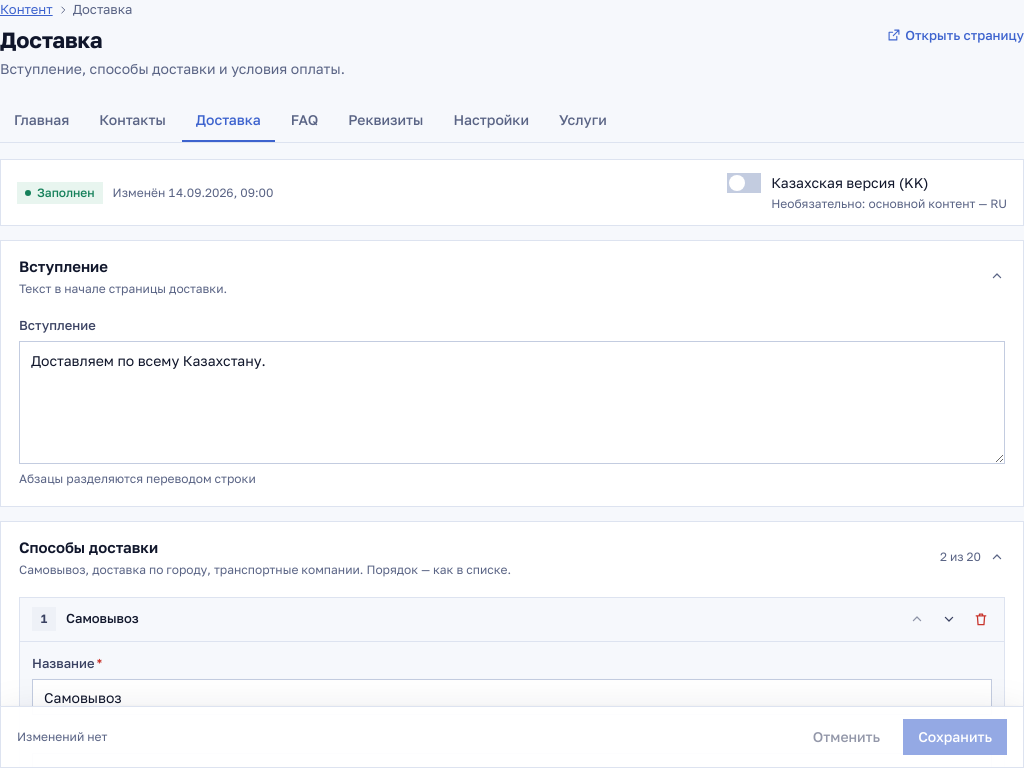
it: редактирование и сохранение › «Отменить» спрашивает подтверждение и возвращает сохранённые значения
The width and height of the screenshot is (1024, 768).
Expected: the button "Сохранить" is shown, [903,719,1007,755]
Replace the text in the text box labelled "Вступление" with "Новый текст": (512, 403) [19,341,1005,464]
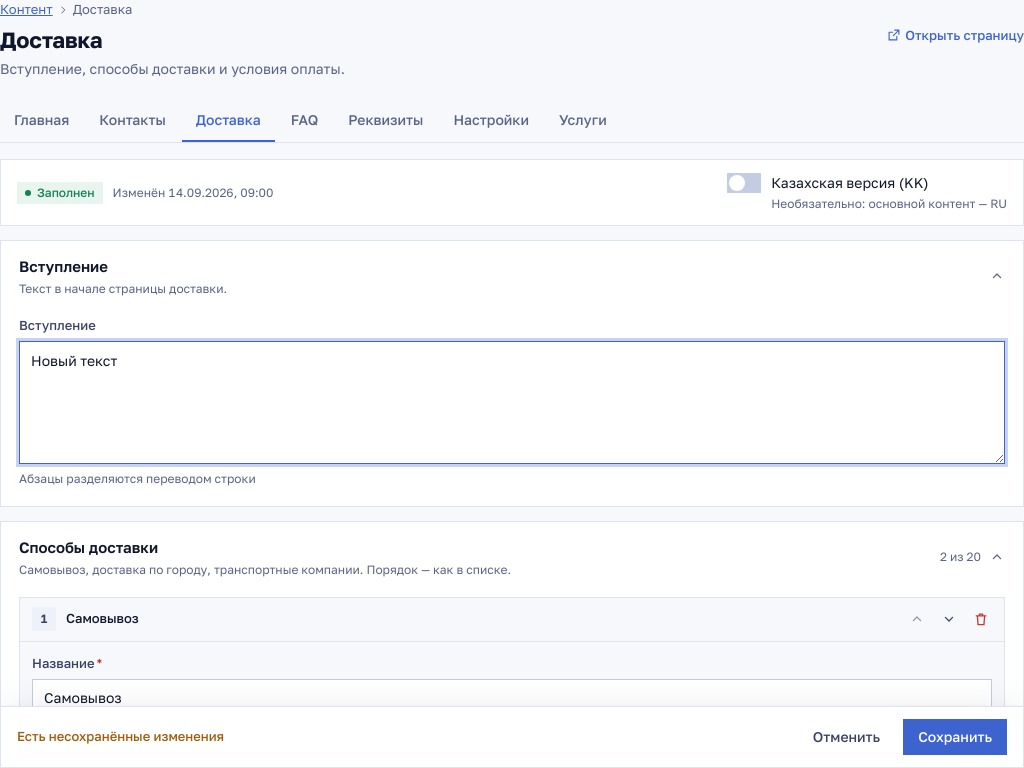
Click the button "Отменить": (846, 737) [798,719,895,755]
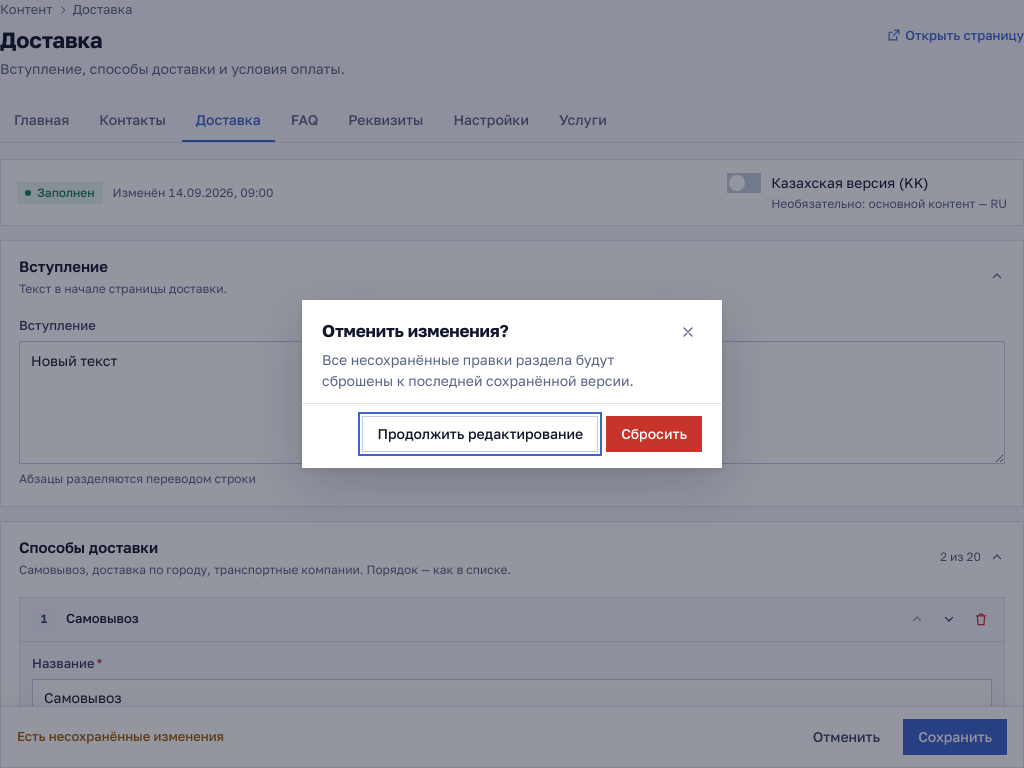
Click the button "Продолжить редактирование": (480, 434) [362,416,598,452]
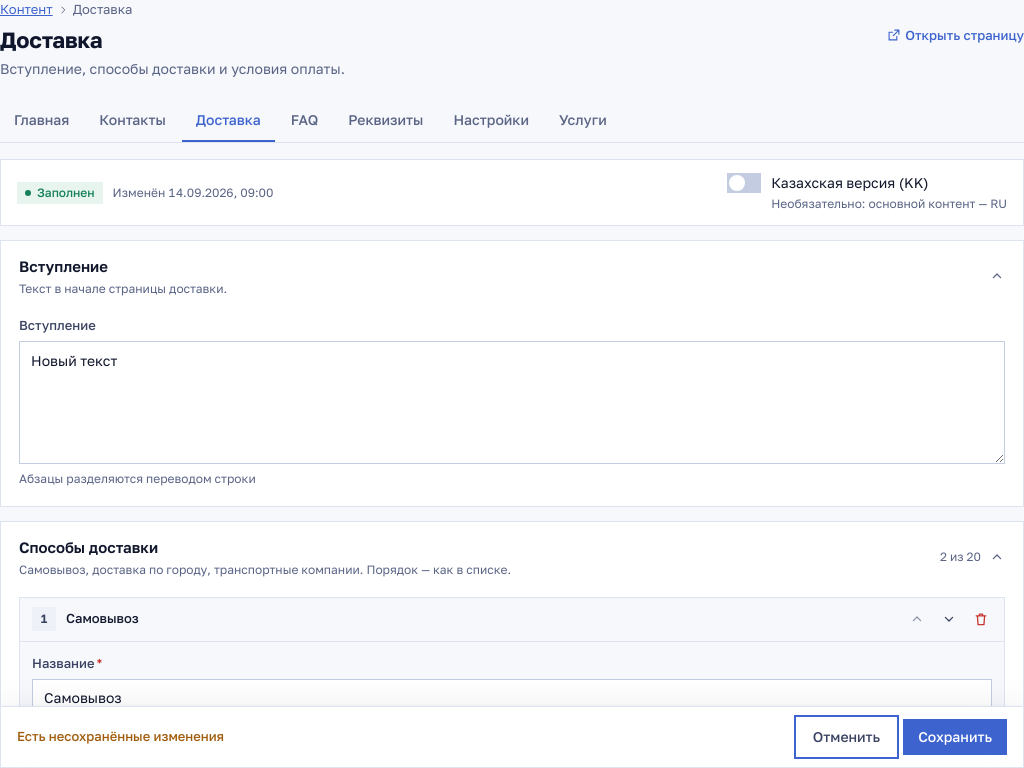
Click the button "Отменить": (846, 737) [798,719,895,755]
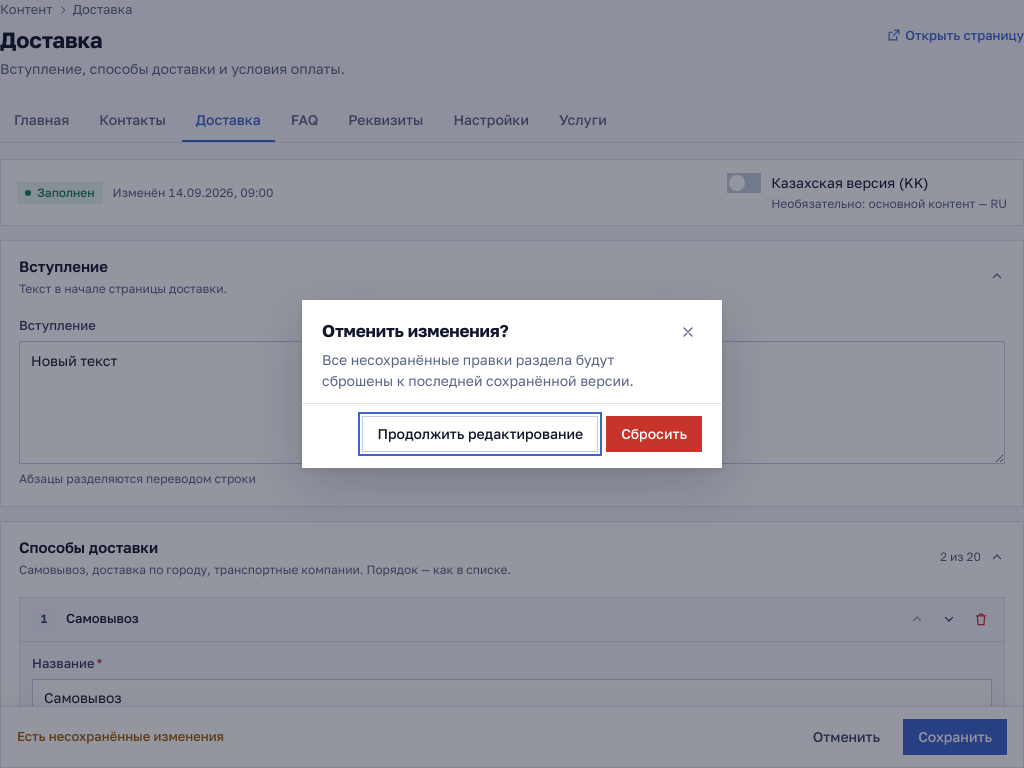
Click the button "Сбросить": (654, 434) [606,416,702,452]
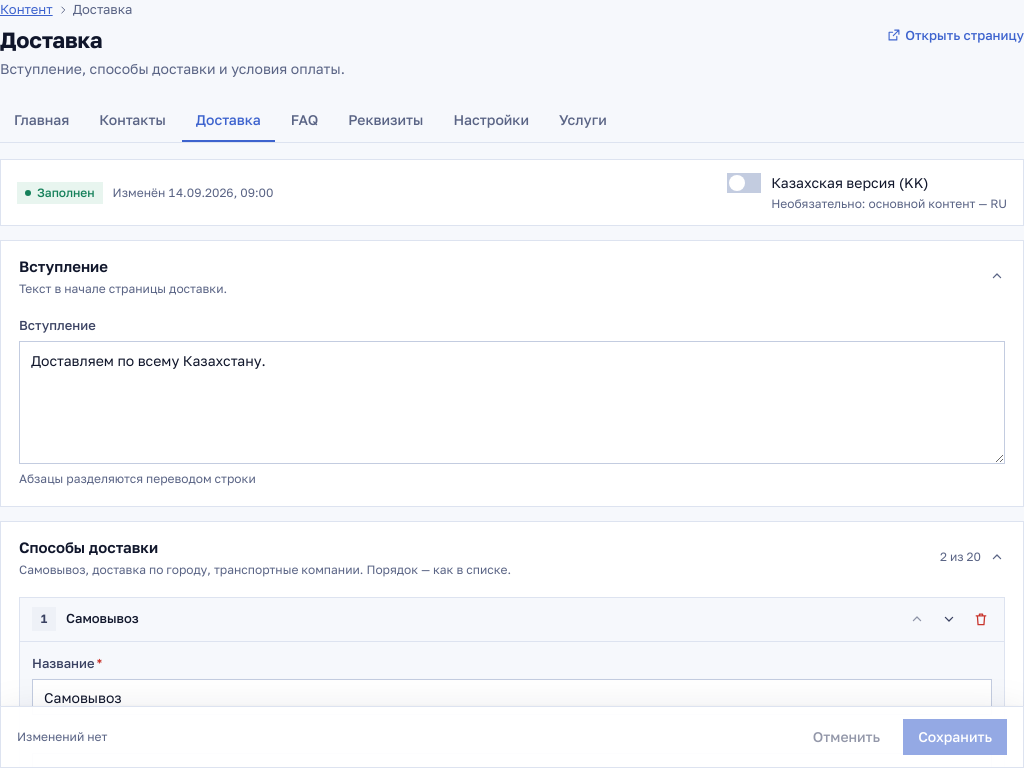
Result: the text box labelled "Вступление" holds "Доставляем по всему Казахстану." at [19,341,1005,464]
Result: the button "Сохранить" is disabled at [903,719,1007,755]
